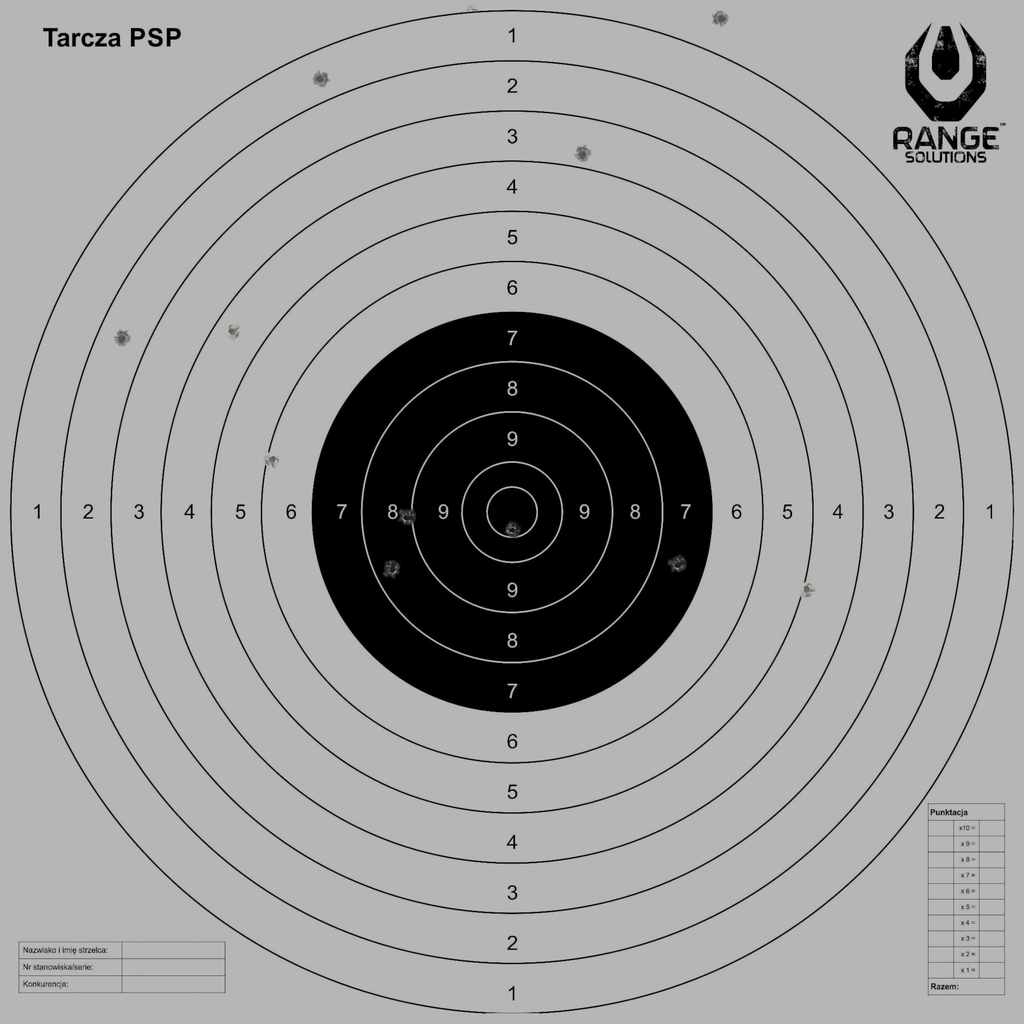0 punktow: (712, 9, 730, 28)
1 punkt: (311, 70, 329, 88)
10 punktow: (503, 521, 521, 539)
2 punkty: (113, 330, 131, 348)
3 punkty: (574, 145, 592, 164)
4 punkty: (223, 322, 241, 341)
5 punktow: (798, 580, 816, 599)
6 punktow: (263, 450, 282, 469)
7 punktow: (669, 556, 687, 574)
8 punktow: (383, 560, 401, 579)
9 punktow: (398, 508, 416, 527)
